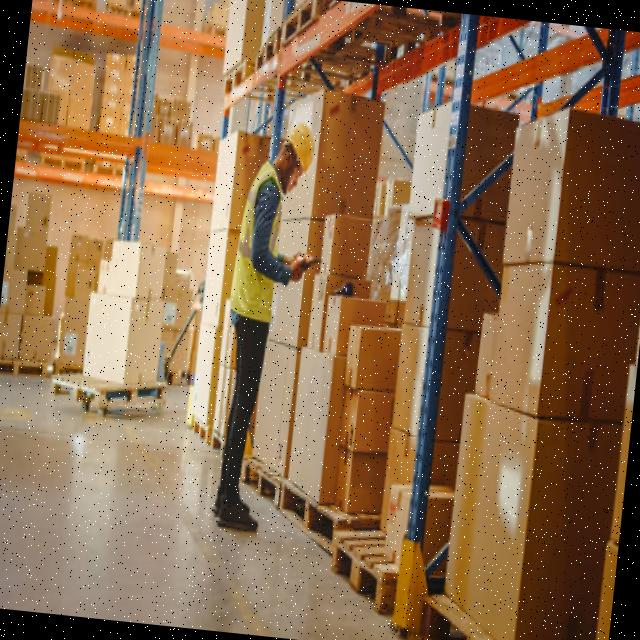Wooden-Pallets: (47, 364, 172, 418), (326, 525, 393, 621), (276, 474, 339, 564)
